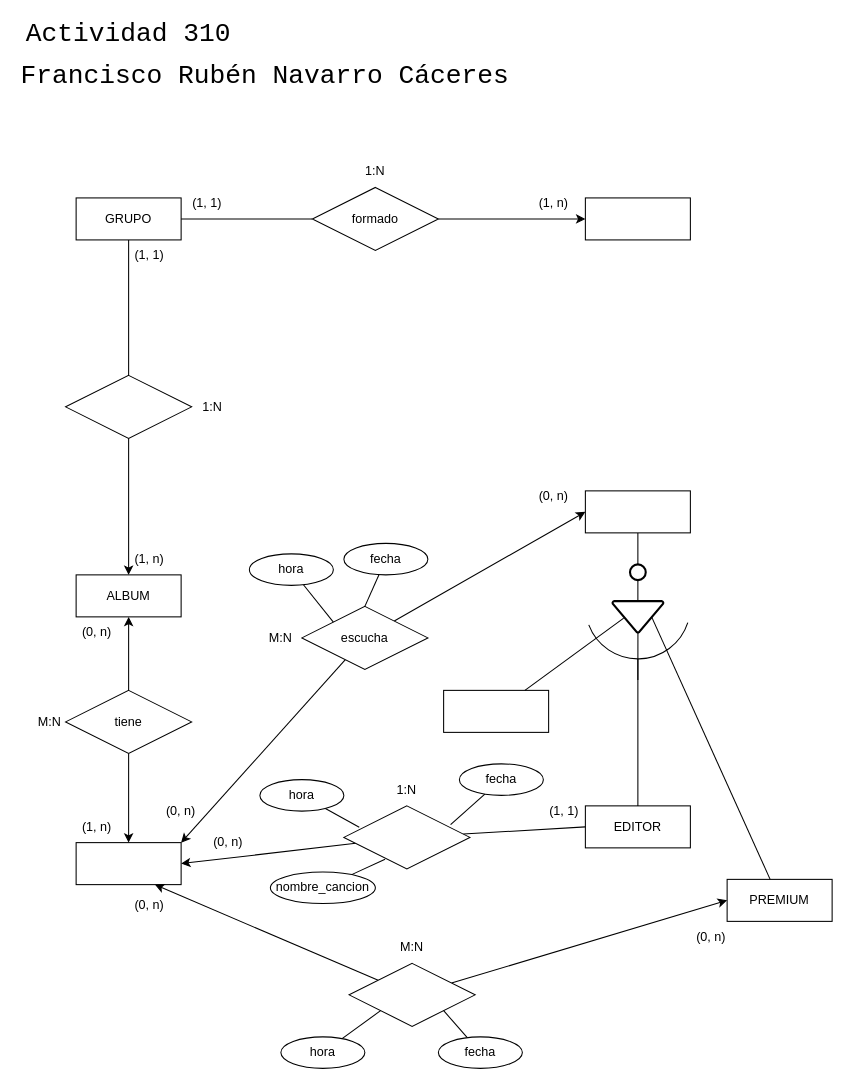
The diagram is 850 pixels wide and 1087 high, and some of its shapes have lost their labels. Here are the shapes that lost their labels. From the top down, the centre of each, then its label:
At [637,218]: "MUSICO".
At [128,406]: "pertenece".
At [637,511]: "USUARIO".
At [496,710]: "REGISTRADO".
At [406,837]: "sube".
At [128,863]: "CANCION".
At [411,994]: "descarga".
